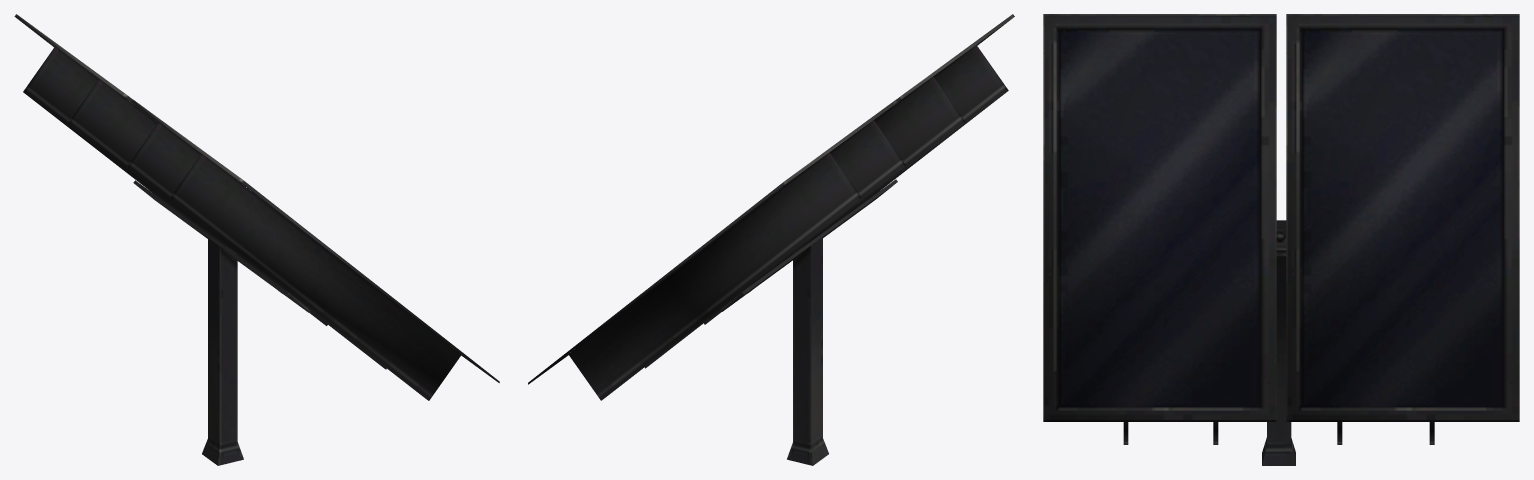
The model's file is solar2.glb.
The picture shows the model from 3 angles, left to right: view 1: azimuth 30°, elevation 25°; view 2: azimuth 150°, elevation 25°; view 3: azimuth 270°, elevation 25°; orthographic projection. The views are drawn at different scales.
Parts seen in each view (by area): view 1: sp2frame; view 2: sp2frame; view 3: sp2frame.
Boxes of the visible parts, bbox=[...] form: sp2frame: bbox=[14, 14, 499, 465]; sp2frame: bbox=[528, 14, 1014, 465]; sp2frame: bbox=[1043, 14, 1519, 465].
Size of the model in its own units: 18 by 22.63 by 24.5.
1 material, 1 textured.
